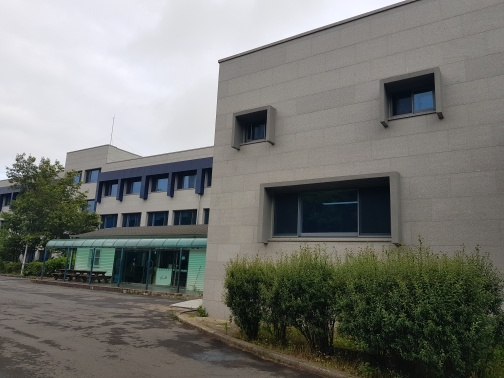College of Social Sciences: (14, 12, 504, 321), (36, 218, 225, 299), (91, 153, 207, 207)
